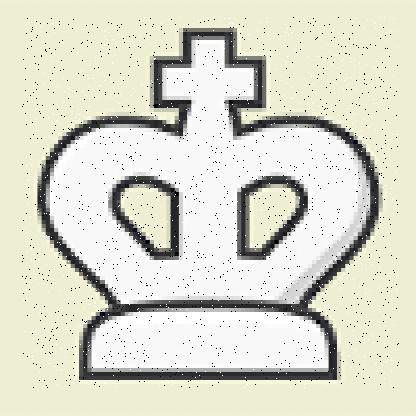White King: (23, 17, 400, 389)
